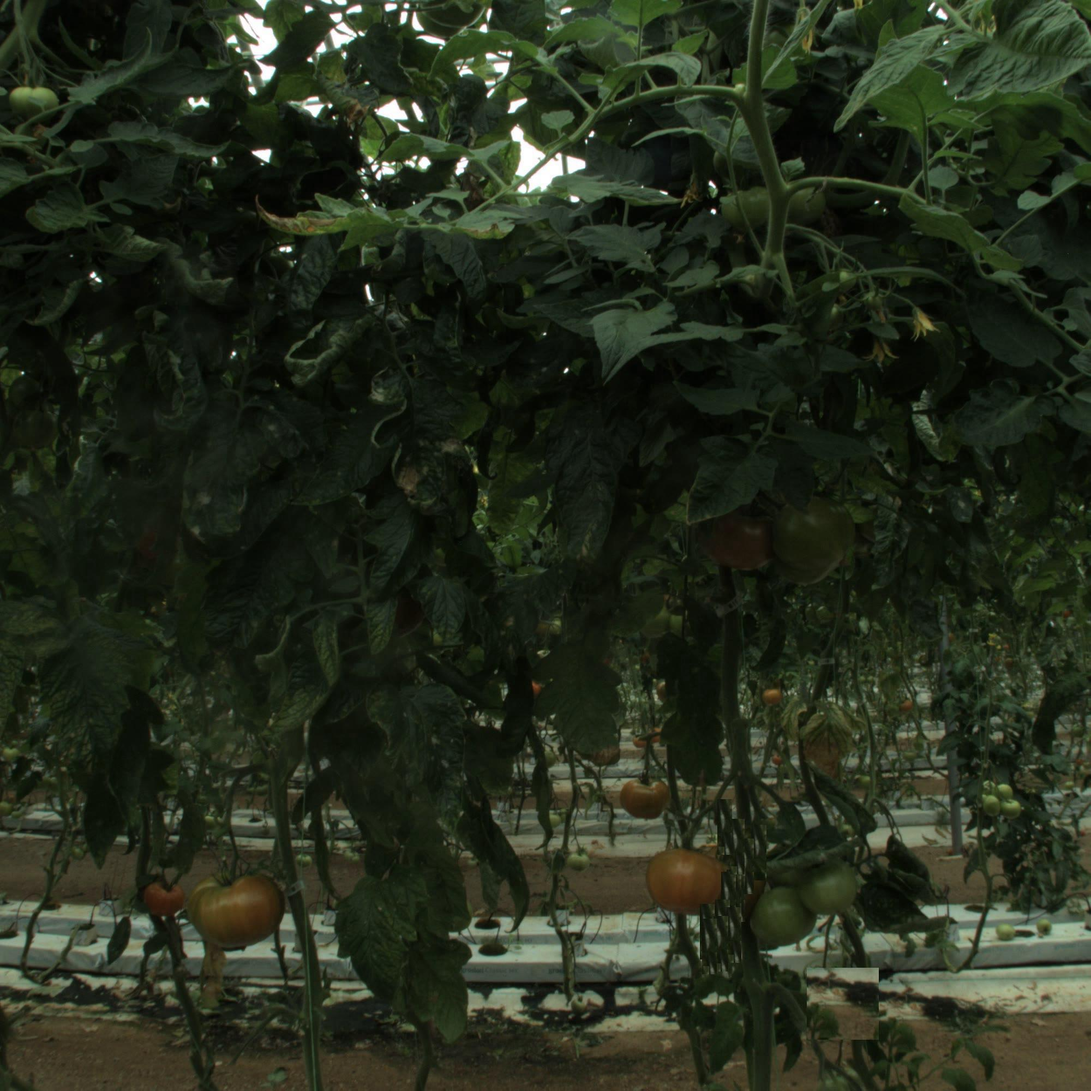fully-ripe: (147, 877, 186, 916)
semi-ripe: (193, 859, 284, 950), (705, 497, 779, 571), (650, 839, 724, 913), (750, 881, 815, 946), (801, 858, 858, 915), (622, 771, 670, 819)
unripe: (772, 490, 855, 573)
